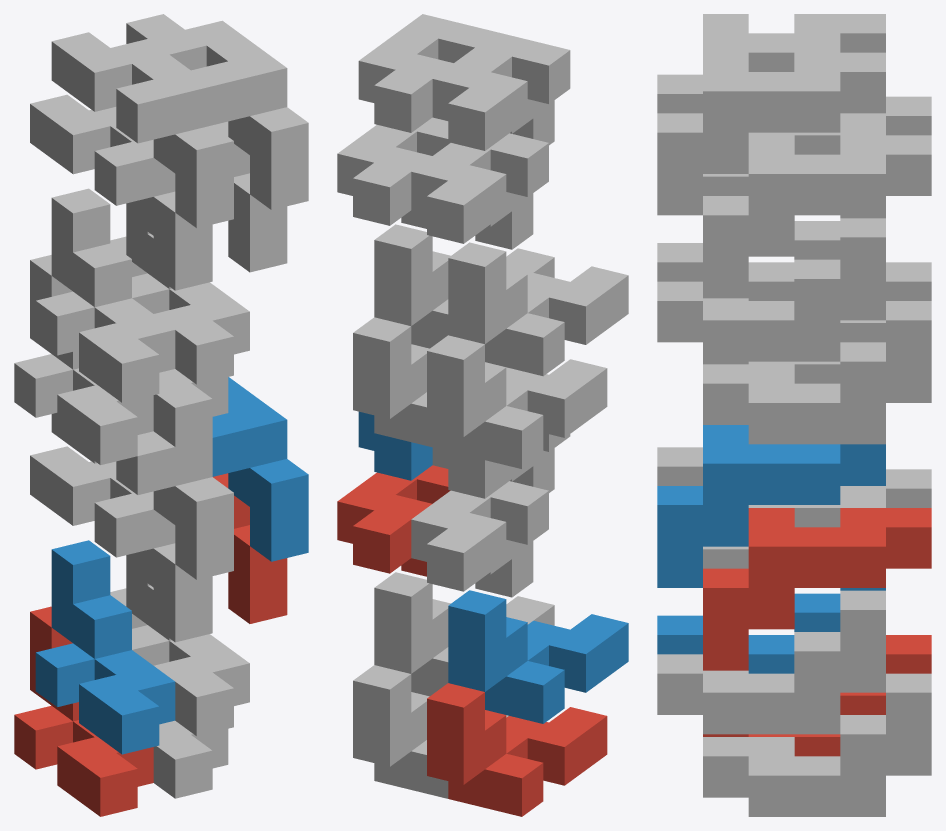
File: tiling.obj
3 renders of one model, left to right at view 1: azimuth 30°, elevation 25°; view 2: azimuth 150°, elevation 25°; view 3: azimuth 270°, elevation 25°, orthographic. The views are drawn at different scales.
Visible parts, largest first — view 1: copy_2_domain_4, copy_1_domain_2, copy_1_domain_4, copy_2_domain_8, copy_2_domain_3, copy_2_domain_1, copy_2_domain_6, copy_2_domain_2, copy_1_domain_1, copy_1_domain_3, copy_1_domain_8, copy_1_domain_6 (+4 smaller); view 2: copy_1_domain_3, copy_1_domain_1, copy_1_domain_4, copy_1_domain_2, copy_2_domain_4, copy_2_domain_1, copy_2_domain_3, copy_2_domain_8, copy_1_domain_8, copy_1_domain_6, copy_1_domain_5, copy_1_domain_7 (+4 smaller); view 3: copy_2_domain_7, copy_2_domain_8, copy_2_domain_5, copy_1_domain_7, copy_1_domain_5, copy_1_domain_6, copy_1_domain_8, copy_2_domain_6, copy_2_domain_4, copy_1_domain_4, copy_1_domain_2, copy_2_domain_3 (+4 smaller).
Boxes of the visible parts, <box> form: copy_2_domain_4: <box>51,32,233,228</box>; copy_1_domain_2: <box>35,540,175,754</box>; copy_1_domain_4: <box>35,188,175,402</box>; copy_2_domain_8: <box>126,14,308,209</box>; copy_2_domain_3: <box>30,94,212,290</box>; copy_2_domain_1: <box>30,446,212,642</box>; copy_2_domain_6: <box>212,377,308,561</box>; copy_2_domain_2: <box>51,413,233,579</box>; copy_1_domain_1: <box>14,606,153,816</box>; copy_1_domain_3: <box>14,255,153,465</box>; copy_1_domain_8: <box>126,202,249,384</box>; copy_1_domain_6: <box>126,554,249,736</box>; copy_1_domain_3: <box>427,335,607,468</box>; copy_1_domain_1: <box>427,683,607,816</box>; copy_1_domain_4: <box>448,242,628,376</box>; copy_1_domain_2: <box>448,590,628,723</box>; copy_2_domain_4: <box>432,32,570,150</box>; copy_2_domain_1: <box>411,481,548,597</box>; copy_2_domain_3: <box>411,133,548,249</box>; copy_2_domain_8: <box>358,14,495,132</box>; copy_1_domain_8: <box>374,224,554,348</box>; copy_1_domain_6: <box>374,572,554,696</box>; copy_1_domain_5: <box>353,665,508,798</box>; copy_1_domain_7: <box>353,317,508,450</box>; copy_2_domain_7: <box>703,135,931,298</box>; copy_2_domain_8: <box>657,52,885,215</box>; copy_2_domain_5: <box>703,508,931,670</box>; copy_1_domain_7: <box>703,301,931,444</box>; copy_1_domain_5: <box>703,673,931,816</box>; copy_1_domain_6: <box>657,590,885,734</box>; copy_1_domain_8: <box>657,218,885,361</box>; copy_2_domain_6: <box>657,425,885,587</box>; copy_2_domain_4: <box>657,14,885,113</box>; copy_1_domain_4: <box>657,215,885,300</box>; copy_1_domain_2: <box>657,588,885,673</box>; copy_2_domain_3: <box>703,96,931,195</box>.
Size of the model in its own units: 5 by 18 by 6.
